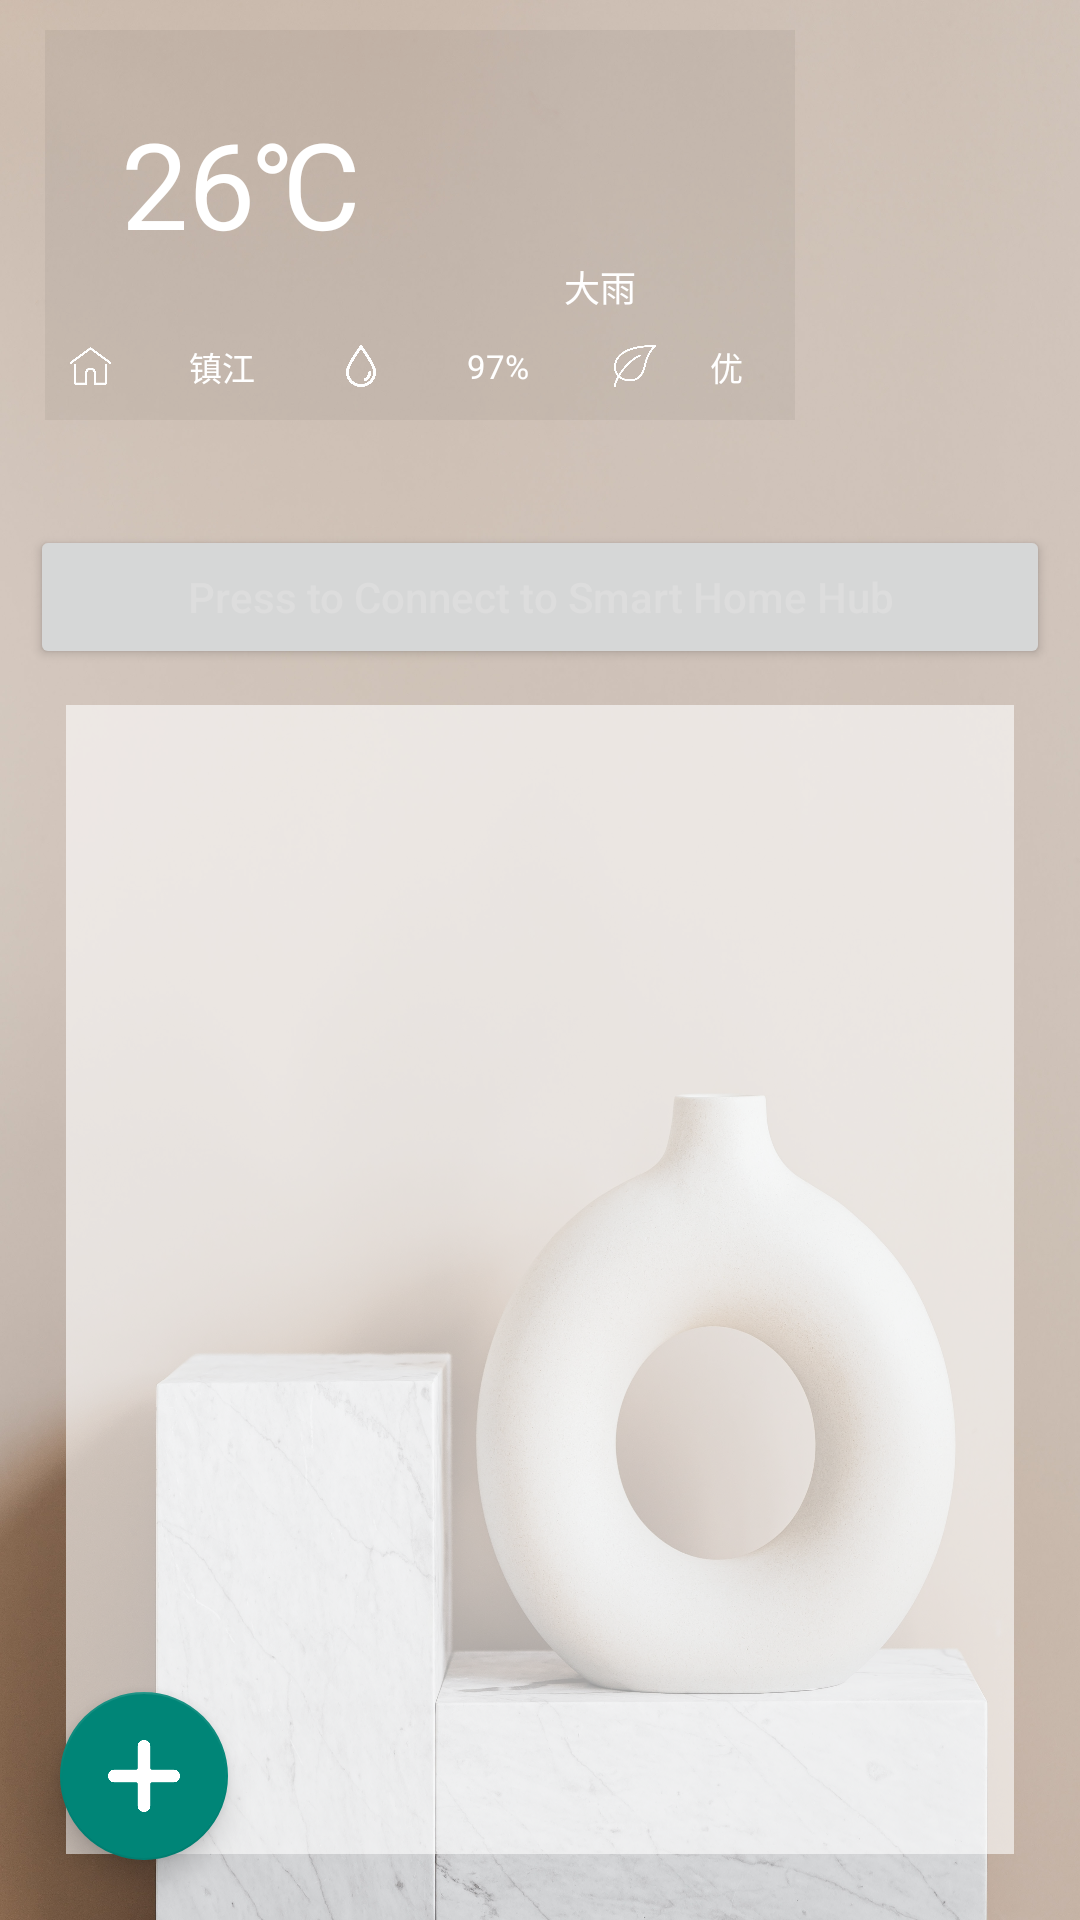

Icons on this 1080*1920 Android screen, each with the point to tap as [x,y]:
add: [144,1776]
drop: [361,366]
leaf: [635,366]
